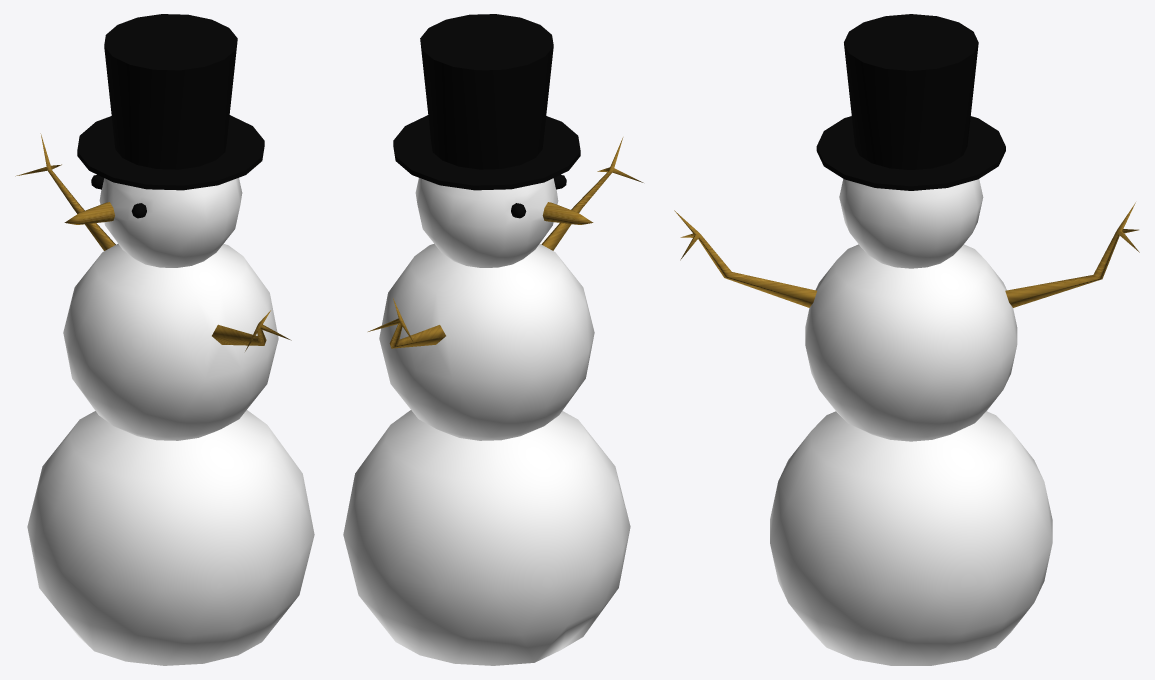
File: snowman.obj
3 views of the same model, side by side, from view 1: azimuth 30°, elevation 25°; view 2: azimuth 150°, elevation 25°; view 3: azimuth 270°, elevation 25° (orthographic).
Visible parts, largest first — view 1: sphere1_mtrl/white, sphere1_mtrl/black, sphere1_mtrl/wood; view 2: sphere1_mtrl/white, sphere1_mtrl/black, sphere1_mtrl/wood; view 3: sphere1_mtrl/white, sphere1_mtrl/black, sphere1_mtrl/wood.
Part boxes in pixels (x1,y1,x2,y2): sphere1_mtrl/white: (27, 178, 314, 665); sphere1_mtrl/black: (77, 14, 264, 218); sphere1_mtrl/wood: (15, 133, 291, 351); sphere1_mtrl/white: (343, 178, 630, 665); sphere1_mtrl/black: (393, 14, 580, 218); sphere1_mtrl/wood: (368, 137, 643, 348); sphere1_mtrl/white: (770, 179, 1052, 665); sphere1_mtrl/black: (816, 14, 1005, 190); sphere1_mtrl/wood: (674, 202, 1139, 307).
Size of the model in its own units: 126 by 285 by 207.
Materials: 3 (3 with a texture image).
